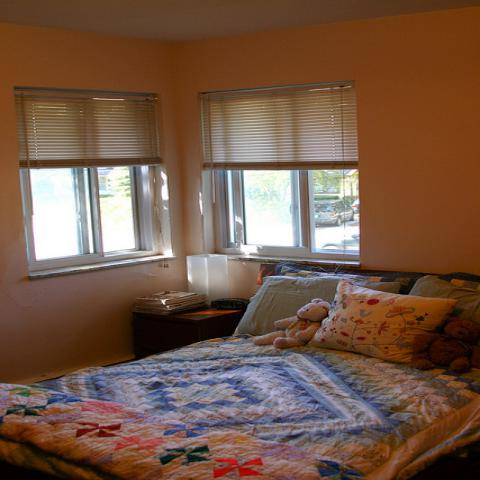car: (314, 199, 356, 226), (351, 198, 360, 214)
